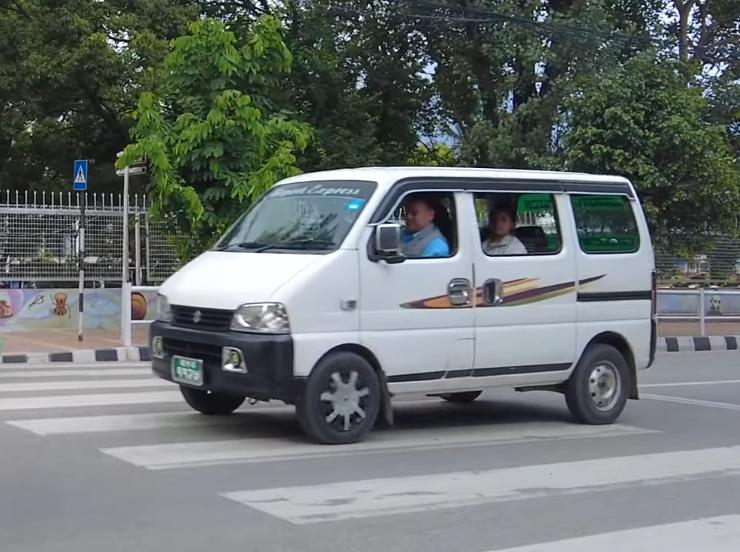van: (122, 152, 673, 450)
